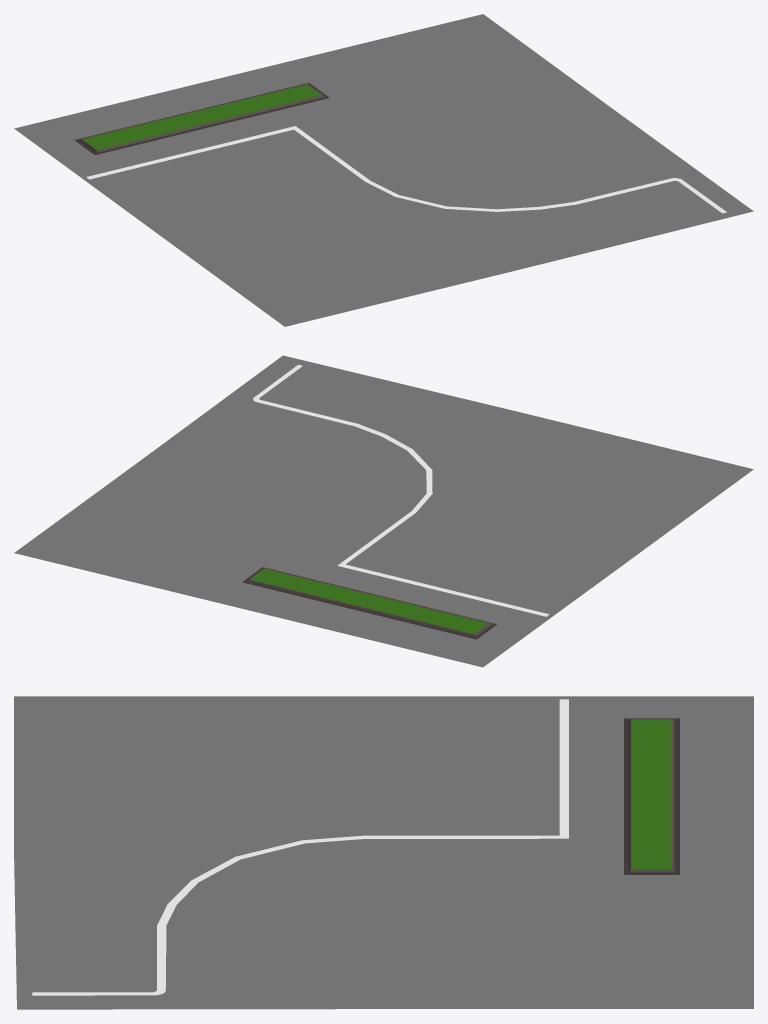
The model's file is W_M_32x32_R0_Park_Floor_b_L3.fbx.
3 views of the same model, one above another, from view 1: azimuth 30°, elevation 25°; view 2: azimuth 150°, elevation 25°; view 3: azimuth 270°, elevation 25° (orthographic). The views are drawn at different scales.
Parts seen in each view (by area): view 1: W_M_32x32_R0_Park_Floor_b_L3; view 2: W_M_32x32_R0_Park_Floor_b_L3; view 3: W_M_32x32_R0_Park_Floor_b_L3.
Part boxes in pixels (x1,y1,x2,y2): W_M_32x32_R0_Park_Floor_b_L3: [14, 14, 753, 326]; W_M_32x32_R0_Park_Floor_b_L3: [14, 355, 753, 667]; W_M_32x32_R0_Park_Floor_b_L3: [14, 696, 753, 1009].
Size of the model in its own units: 32.06 by 0.1222 by 32.
